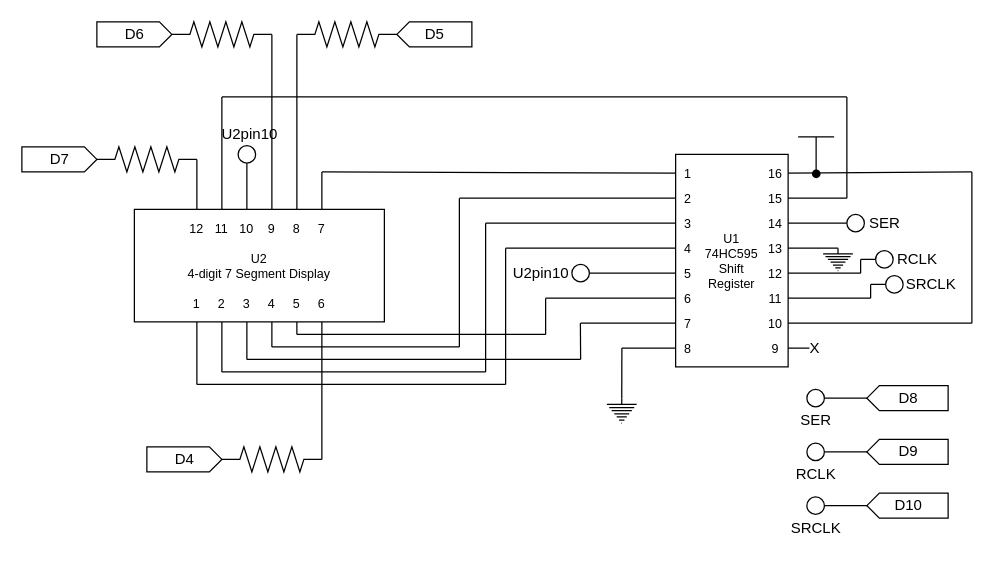
The diagram is 995 pixels wide and 569 high, and some of its shapes have lost their labels. Each missing label, with the centre of its shape:
"5V" belongs at (x=815, y=154).
"R 1 = 220R" belongs at (x=146, y=159).
"R 2 = 220R" belongs at (x=221, y=34).
"R 3 = 220R" belongs at (x=346, y=34).
"R 4 = 220R" belongs at (x=271, y=459).
